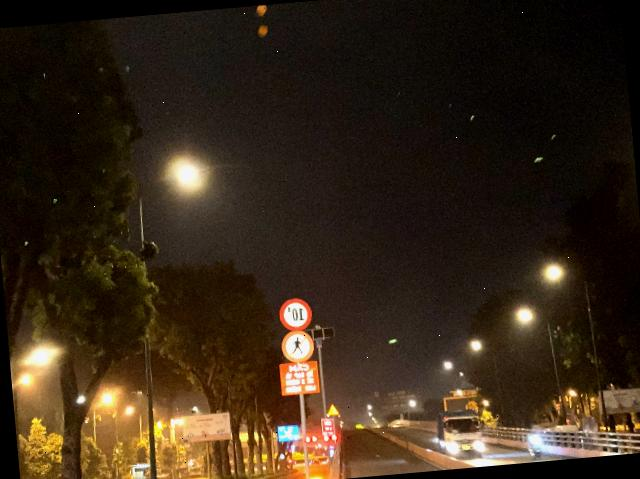cam-nguoi-di-bo: (280, 329, 314, 363)
han-che-trong-luong-xe: (278, 297, 312, 332)
